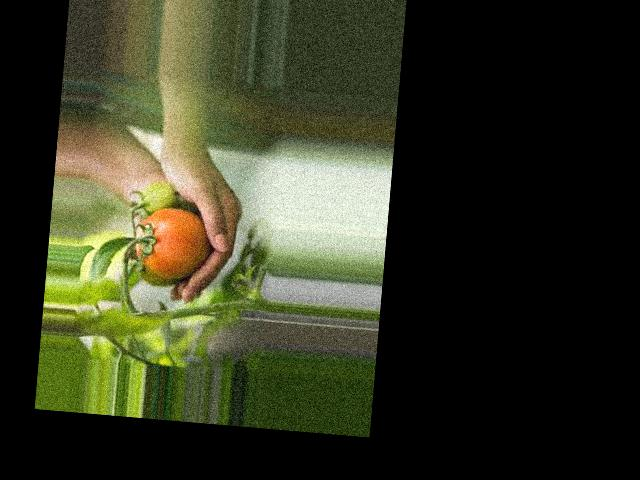tomato: (133, 205, 210, 280)
